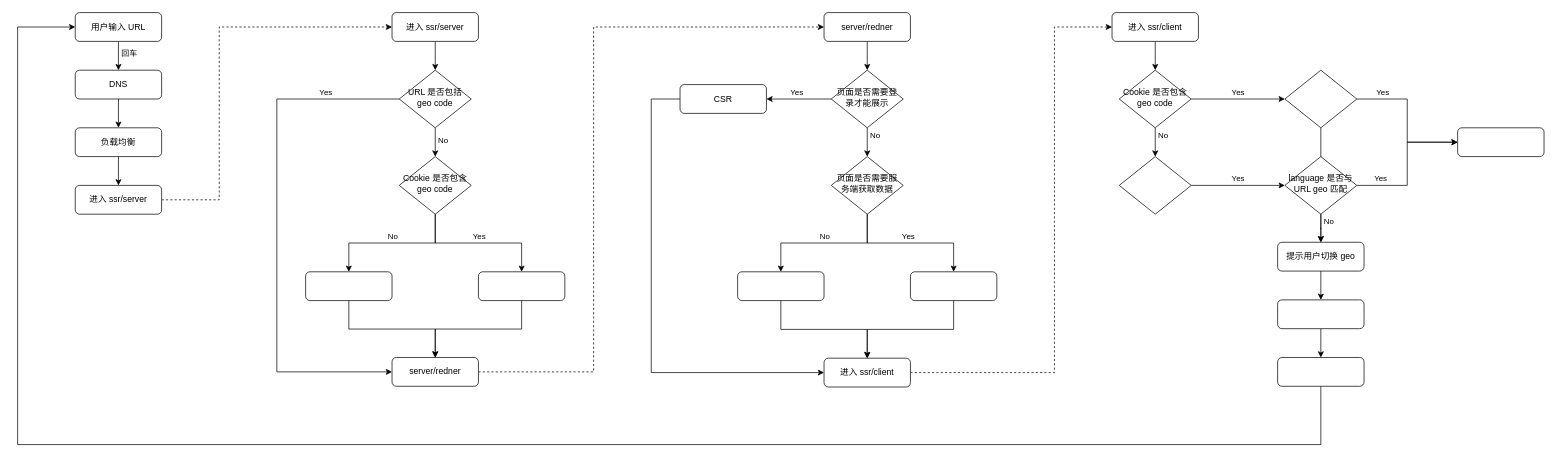
Some shapes in this 1557 by 463 pixel diagram are drawn without their labels. The shapes that lost their labels are listed below. From the top down, each one's centre as x and y in pixels, then its label:
(1320,98): Cookie geo code 是否与 URL geo 匹配
(1500,142): 结束
(1155,185): 是否可以获取到 navigator.language
(348,286): URL 302 默认 geo code
(521,286): URL 302 cookie geo code
(780,286): SSG
(953,286): SSR
(1320,314): Cookie 存储 geo code
(1320,371): 切换 URL
